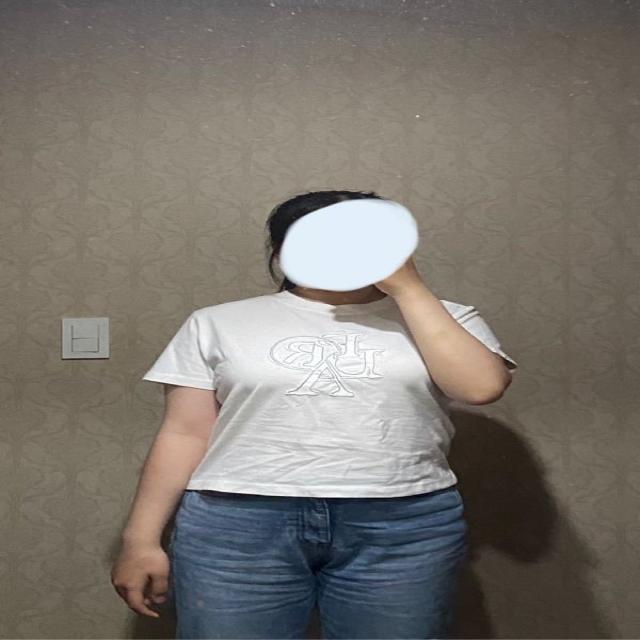denimpants: (164, 487, 469, 639)
shortsleeve: (142, 294, 514, 500)
